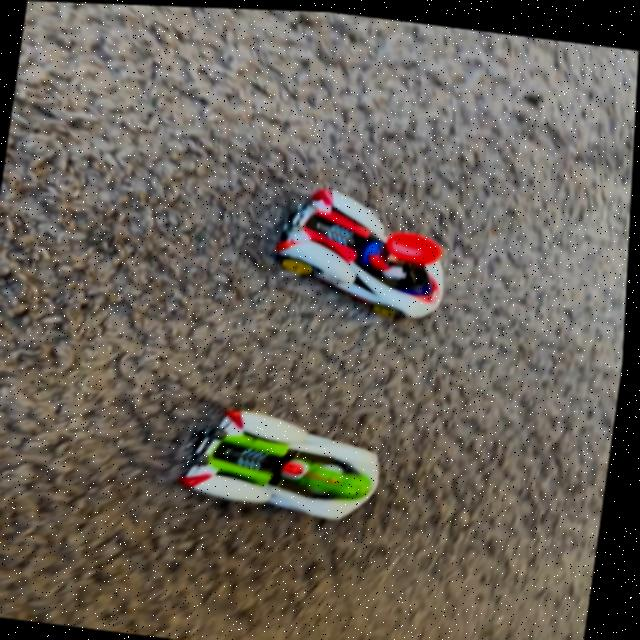mario: (256, 170, 471, 331)
yoshi: (166, 379, 412, 538)
